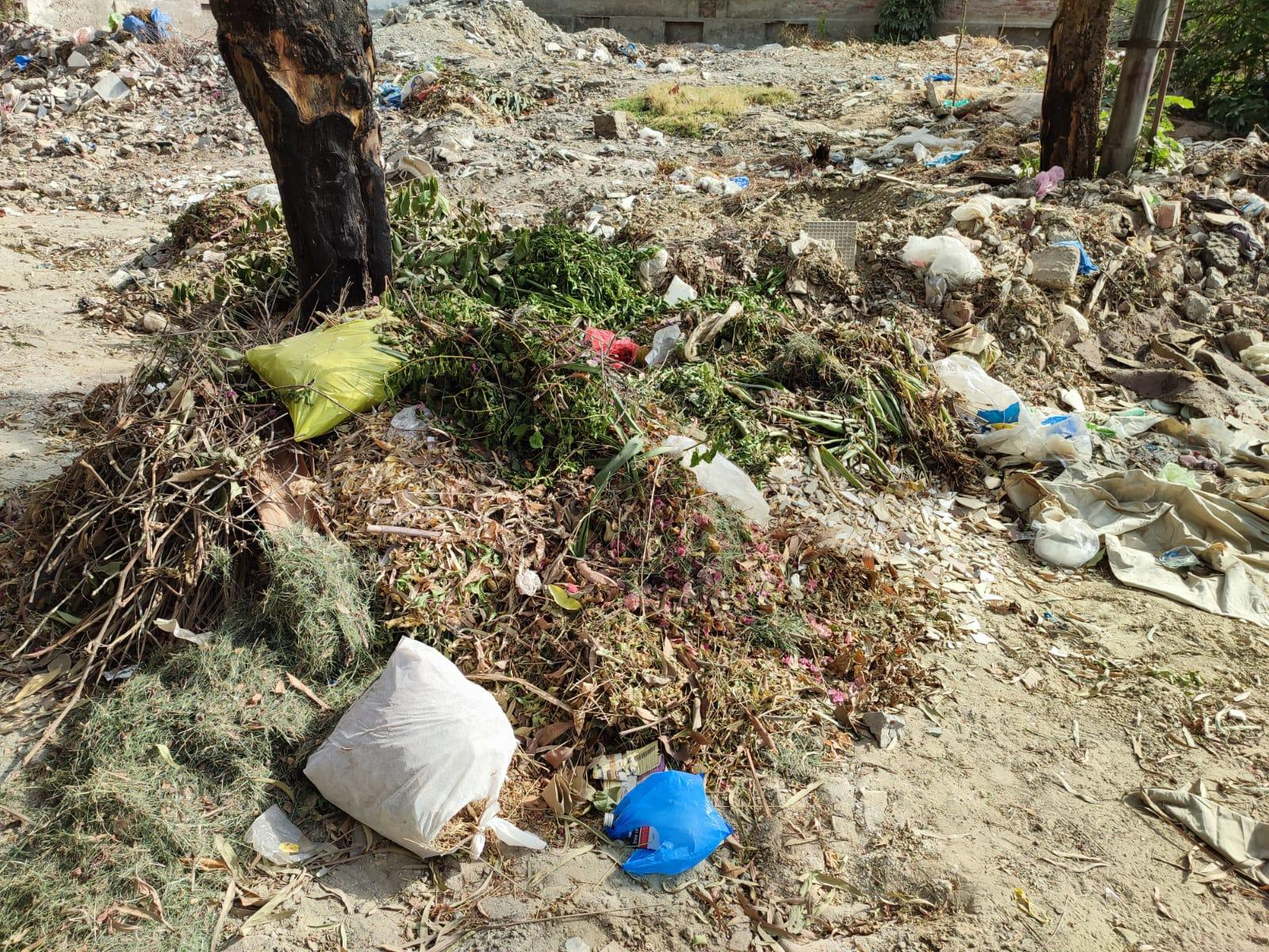garbage: (405, 10, 1269, 638), (306, 593, 317, 613)
